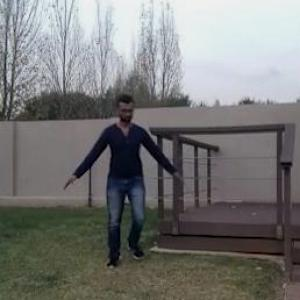land: (71, 85, 187, 285)
